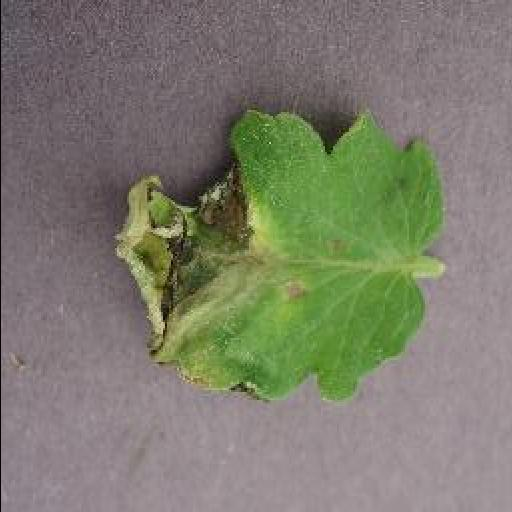disease_tomato: (114, 106, 442, 408)
